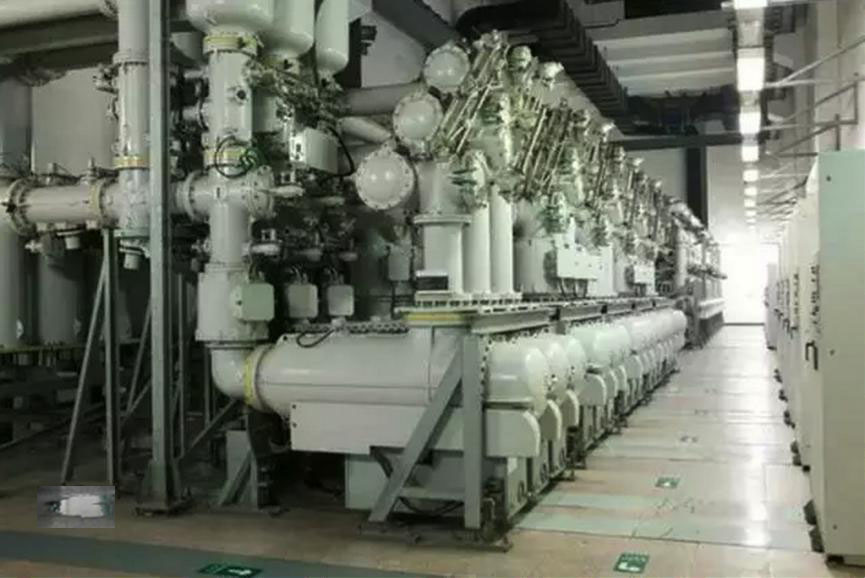oil: (41, 483, 118, 533)
